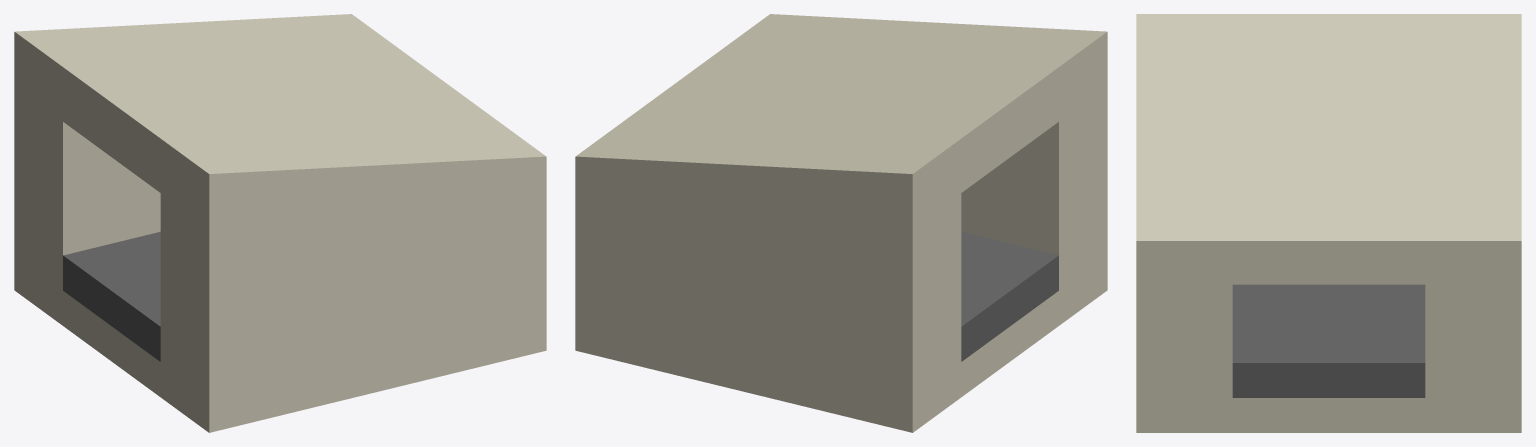
File: roadTile_224.fbx
The picture shows the model from 3 angles, left to right: view 1: azimuth 30°, elevation 25°; view 2: azimuth 150°, elevation 25°; view 3: azimuth 270°, elevation 25°; orthographic projection.
Parts seen in each view (by area): view 1: roadTile_224; view 2: roadTile_224; view 3: roadTile_224.
Boxes of the visible parts, x1,y1,x2,y2 form: roadTile_224: (14, 14, 546, 432); roadTile_224: (575, 14, 1107, 432); roadTile_224: (1136, 14, 1521, 432).
Bounding box in the file's own units: 118 × 86.61 × 118.
